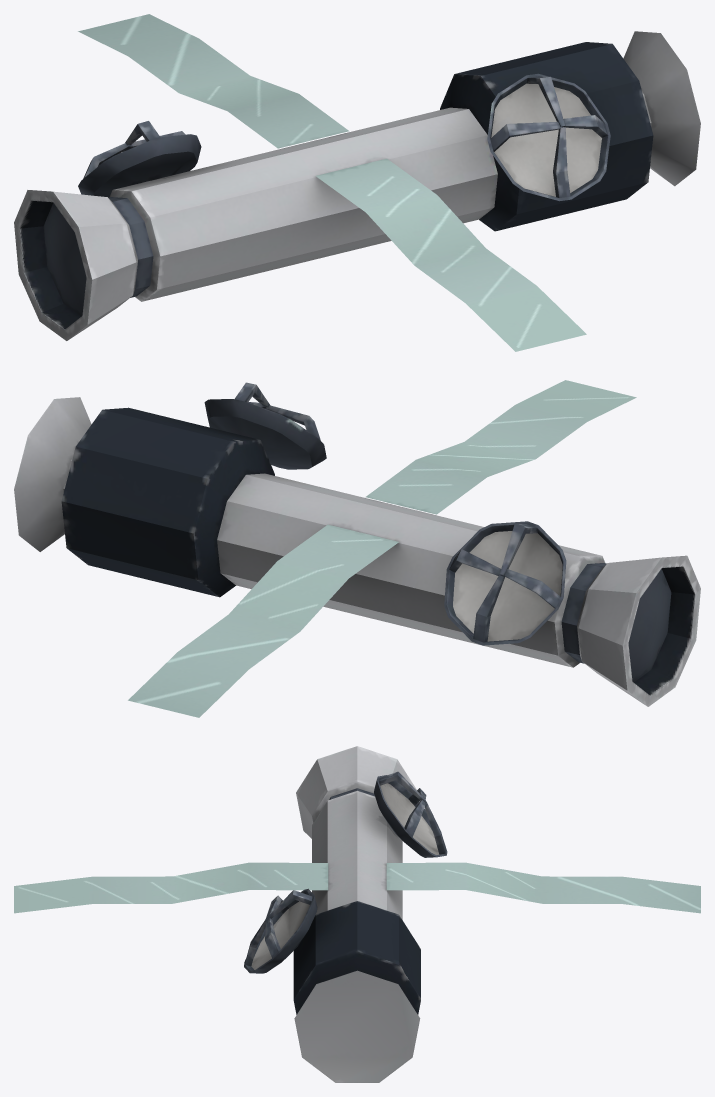
The model's file is Polonio.fbx.
3 views of the same model, one above another, from view 1: azimuth 30°, elevation 25°; view 2: azimuth 150°, elevation 25°; view 3: azimuth 270°, elevation 25° (orthographic). The views are drawn at different scales.
Parts seen in each view (by area): view 1: Po_model; view 2: Po_model; view 3: Po_model.
Part boxes in pixels (x1,y1,x2,y2): Po_model: (14,14,700,351); Po_model: (14,380,700,717); Po_model: (14,746,700,1082).
Size of the model in its own units: 50.01 by 13.68 by 62.41.
1 material, 1 textured.
